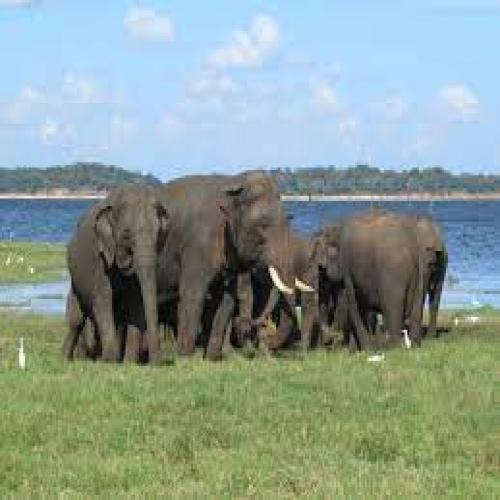asian_elephant-endangered: (155, 178, 315, 361), (66, 184, 168, 368), (323, 214, 447, 333)
